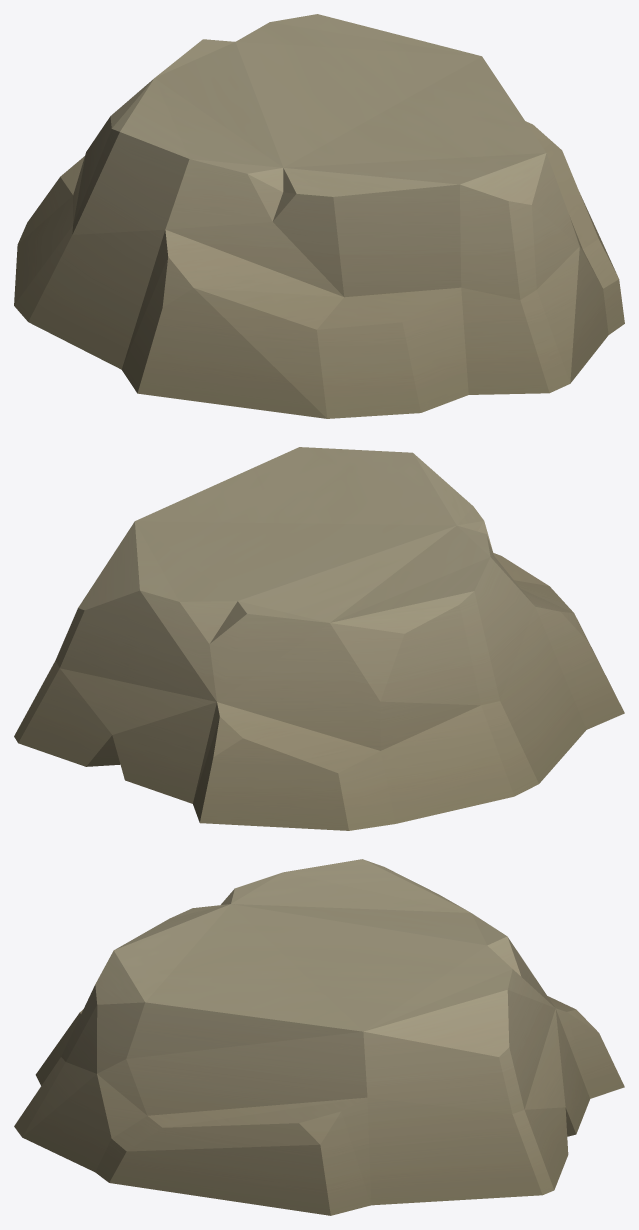
File: Rock_03.fbx
3 views of the same model, one above another, from view 1: azimuth 30°, elevation 25°; view 2: azimuth 150°, elevation 25°; view 3: azimuth 270°, elevation 25° (orthographic). The views are drawn at different scales.
Parts seen in each view (by area): view 1: Rock_03; view 2: Rock_03; view 3: Rock_03.
Boxes of the visible parts, x1,y1,x2,y2 form: Rock_03: [14, 14, 624, 418]; Rock_03: [14, 447, 624, 830]; Rock_03: [14, 859, 624, 1215].
Size of the model in its own units: 327 by 107 by 367.
